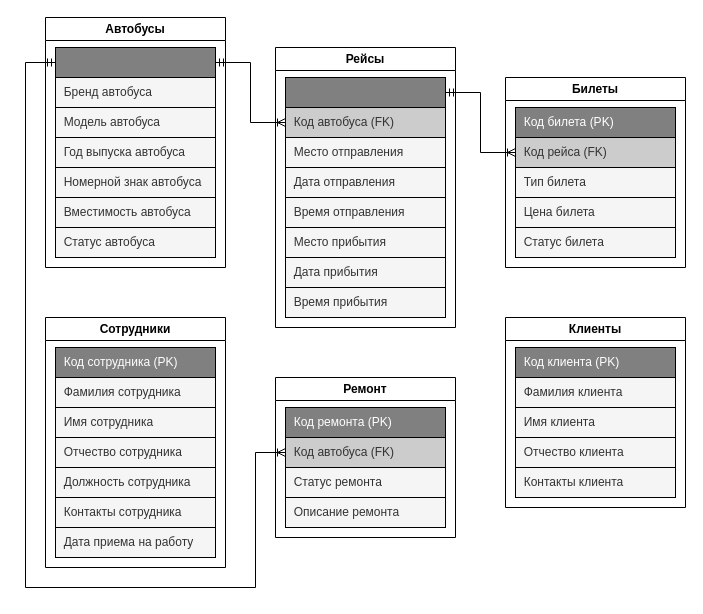
Some shapes in this 703 by 614 pixel diagram are drawn without their labels. Each missing label, with the centre of its shape:
"Код автобуса (PK)" goes at (x=135, y=62).
"Код рейса (PK)" goes at (x=365, y=92).
